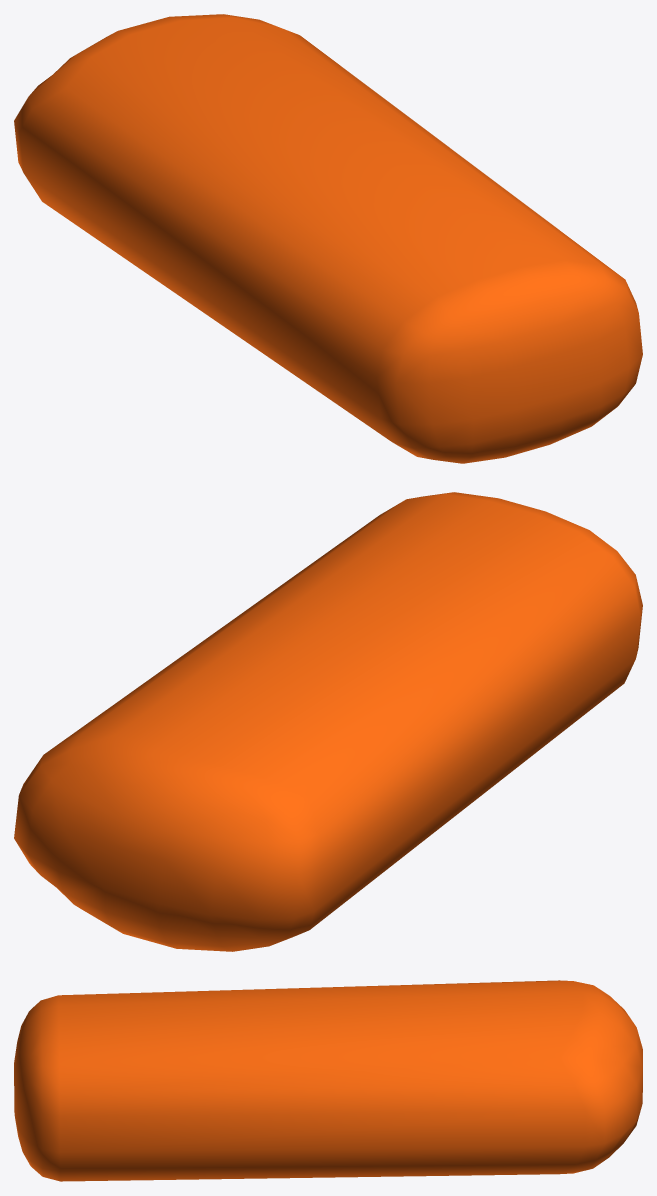
File: Patato1.FBX
3 views of the same model, one above another, from view 1: azimuth 30°, elevation 25°; view 2: azimuth 150°, elevation 25°; view 3: azimuth 270°, elevation 25° (orthographic). The views are drawn at different scales.
Visible parts, largest first — view 1: Patato1; view 2: Patato1; view 3: Patato1.
Boxes of the visible parts, left/top/right/bottom form: Patato1: left=14, top=14, right=642, bottom=463; Patato1: left=14, top=492, right=642, bottom=951; Patato1: left=14, top=980, right=642, bottom=1181.
Bounding box in the file's own units: 66.84 × 41.79 × 159.
